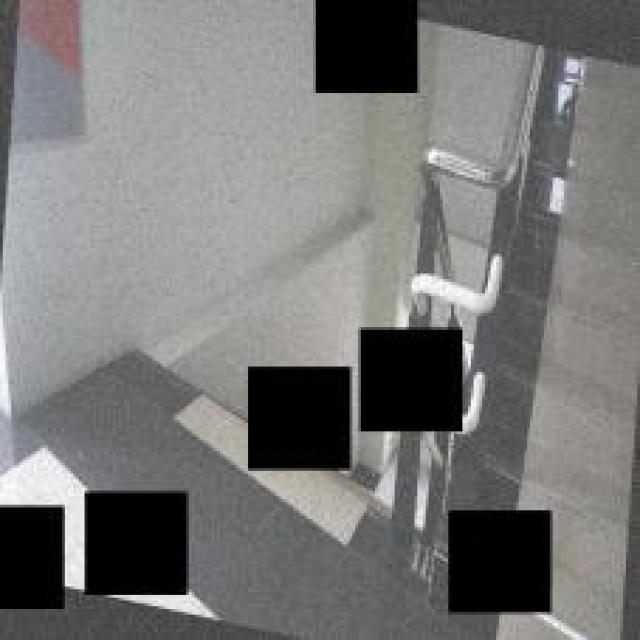downstair: (537, 179, 635, 489)
